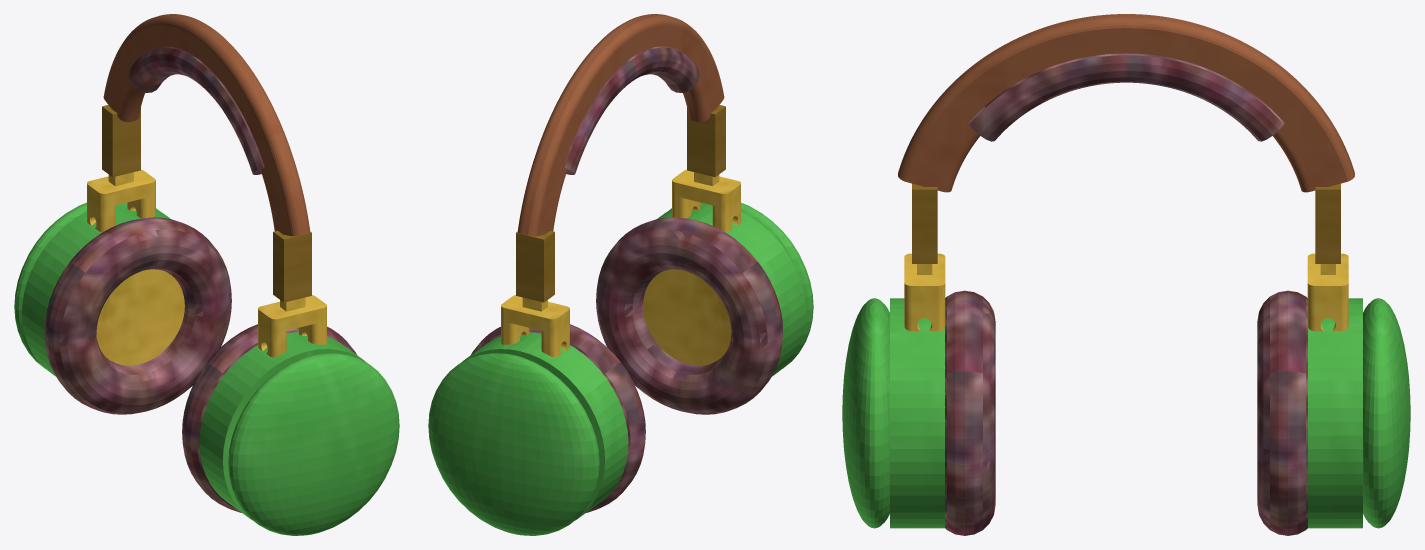
Rendered from Music_Headphone__0000.glb.
The picture shows the model from 3 angles, left to right: view 1: azimuth 30°, elevation 25°; view 2: azimuth 150°, elevation 25°; view 3: azimuth 270°, elevation 25°; orthographic projection. The views are drawn at different scales.
Visible parts, largest first — view 1: right_cup::right_cup_dome, left_cup::left_cup_pad, band::band_shell, right_cup::right_cup_shell, left_cup::left_cup_cap, left_cup::left_cup_shell, band::band_pad, right_cup::right_cup_pad, right_yoke::right_yoke_body, left_yoke::left_yoke_body, band::housing_r, band::housing_l (+1 smaller); view 2: left_cup::left_cup_dome, right_cup::right_cup_pad, band::band_shell, left_cup::left_cup_shell, right_cup::right_cup_cap, right_cup::right_cup_shell, band::band_pad, left_cup::left_cup_pad, left_yoke::left_yoke_body, right_yoke::right_yoke_body, band::housing_l, band::housing_r (+1 smaller); view 3: band::band_shell, left_cup::left_cup_pad, right_cup::right_cup_pad, right_cup::right_cup_shell, left_cup::left_cup_shell, band::band_pad, left_cup::left_cup_dome, right_cup::right_cup_dome, left_yoke::left_yoke_body, right_yoke::right_yoke_body, band::housing_l, band::housing_r.
Boxes of the visible parts, x1,y1,x2,y2 form: right_cup::right_cup_dome: [228, 353, 399, 535]; left_cup::left_cup_pad: [45, 217, 231, 414]; band::band_shell: [103, 14, 310, 236]; right_cup::right_cup_shell: [199, 332, 366, 520]; left_cup::left_cup_cap: [96, 269, 184, 365]; left_cup::left_cup_shell: [22, 202, 170, 376]; band::band_pad: [128, 46, 264, 174]; right_cup::right_cup_pad: [182, 324, 356, 512]; right_yoke::right_yoke_body: [258, 295, 326, 357]; left_yoke::left_yoke_body: [87, 169, 155, 231]; band::housing_r: [273, 230, 311, 302]; band::housing_l: [102, 105, 140, 176]; left_cup::left_cup_dome: [428, 353, 599, 535]; right_cup::right_cup_pad: [596, 217, 782, 414]; band::band_shell: [517, 14, 724, 236]; left_cup::left_cup_shell: [461, 332, 628, 520]; right_cup::right_cup_cap: [643, 269, 731, 365]; right_cup::right_cup_shell: [657, 202, 805, 376]; band::band_pad: [563, 46, 699, 174]; left_cup::left_cup_pad: [471, 324, 645, 512]; left_yoke::left_yoke_body: [501, 295, 569, 357]; right_yoke::right_yoke_body: [672, 169, 740, 231]; band::housing_l: [516, 230, 554, 302]; band::housing_r: [687, 105, 725, 176]; band::band_shell: [898, 14, 1354, 192]; left_cup::left_cup_pad: [1257, 290, 1307, 535]; right_cup::right_cup_pad: [945, 290, 995, 535]; right_cup::right_cup_shell: [890, 298, 945, 528]; left_cup::left_cup_shell: [1307, 298, 1362, 528]; band::band_pad: [968, 53, 1284, 141]; left_cup::left_cup_dome: [1363, 298, 1410, 528]; right_cup::right_cup_dome: [842, 298, 889, 528]; left_yoke::left_yoke_body: [1307, 253, 1348, 331]; right_yoke::right_yoke_body: [904, 253, 945, 331]; band::housing_l: [1315, 183, 1340, 263]; band::housing_r: [912, 183, 937, 263].
Bounding box in the file's own units: 0.096 × 0.2196 × 0.2225.
5 materials, 5 textured.
